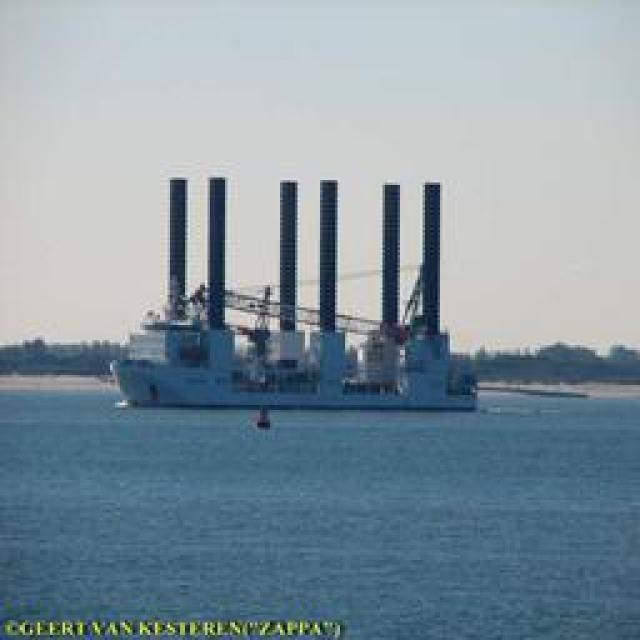Ship: (119, 226, 479, 414)
